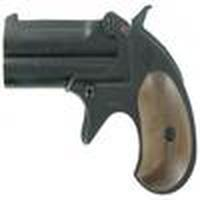gun: (3, 10, 195, 197)
